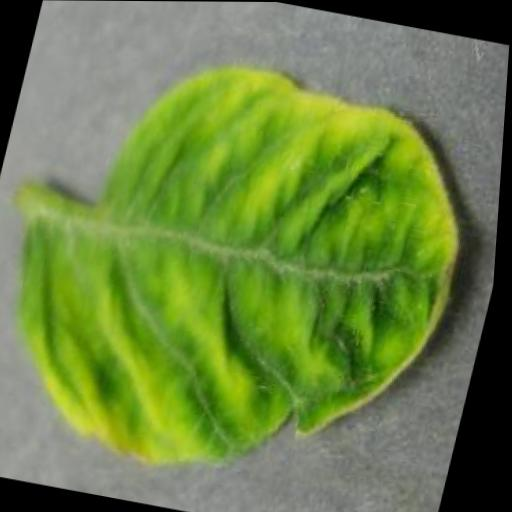Yellow Leaf Curl Virus: (0, 31, 500, 510)
